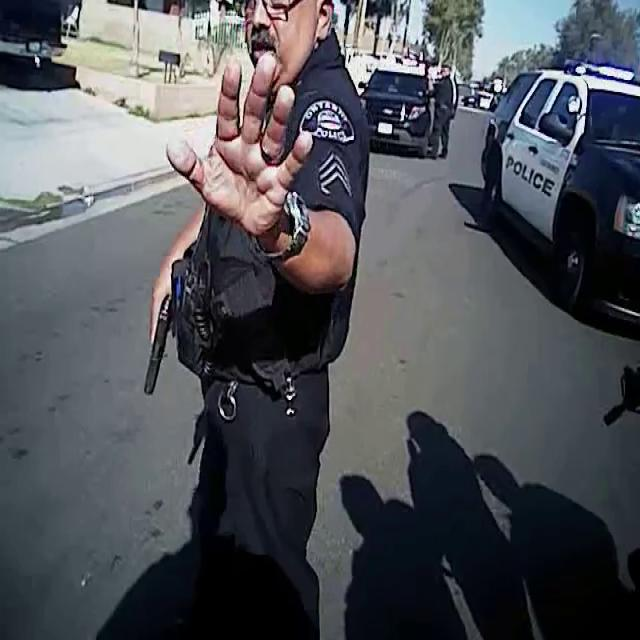gun: (147, 283, 177, 407)
